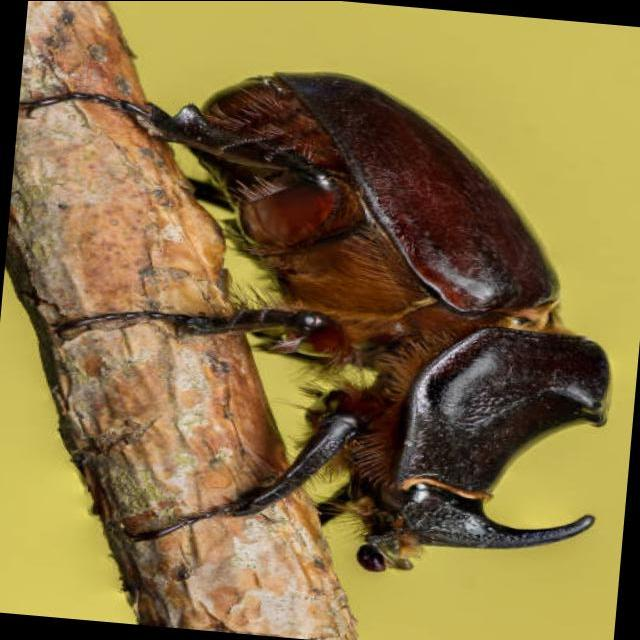Rhino-beetle: (161, 31, 619, 624)
